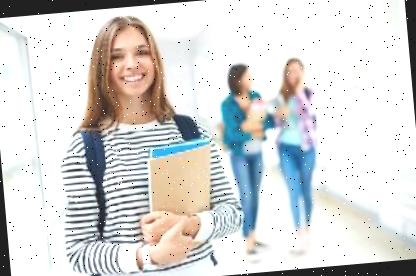person: (43, 1, 246, 276), (264, 53, 337, 257), (211, 56, 282, 261)
